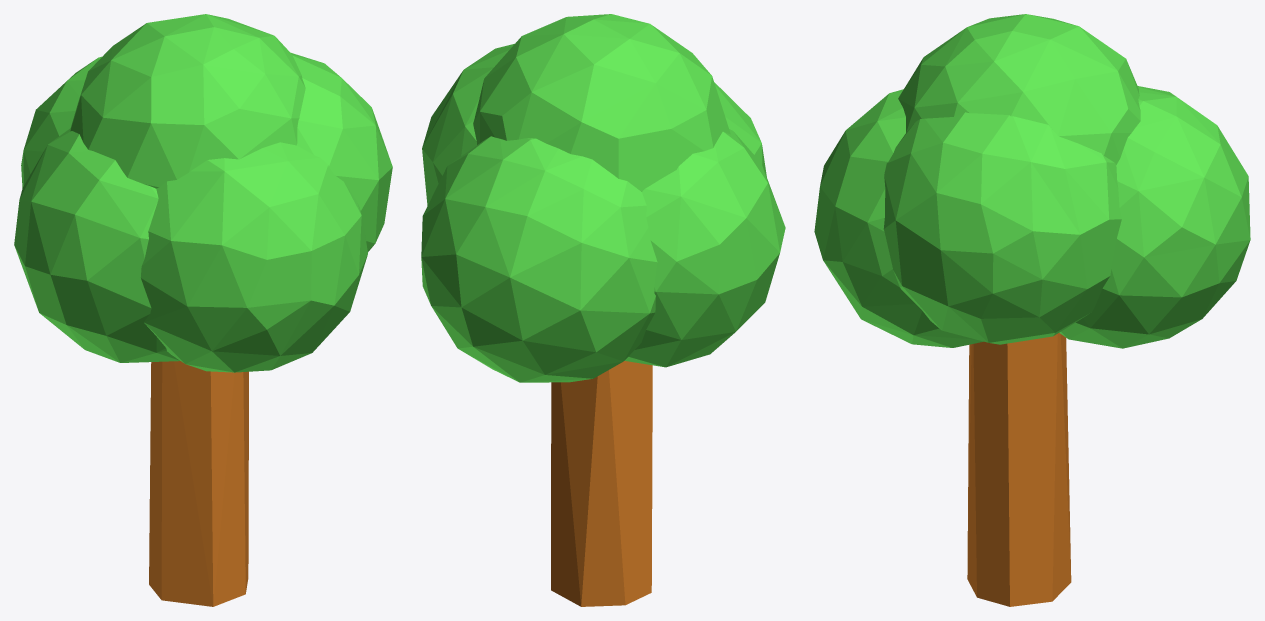
File: cutetree.fbx
3 renders of one model, left to right at view 1: azimuth 30°, elevation 25°; view 2: azimuth 150°, elevation 25°; view 3: azimuth 270°, elevation 25°, orthographic.
Parts seen in each view (by area): view 1: Sphere; view 2: Sphere; view 3: Sphere.
Boxes of the visible parts, box(x1,y1,x2,y2) form: Sphere: box(14, 14, 392, 606); Sphere: box(421, 14, 785, 606); Sphere: box(814, 14, 1250, 606).
Size of the model in its own units: 1015 by 1628 by 1149.
